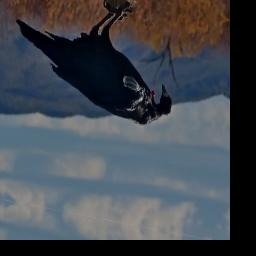Crow: (6, 0, 183, 133)
